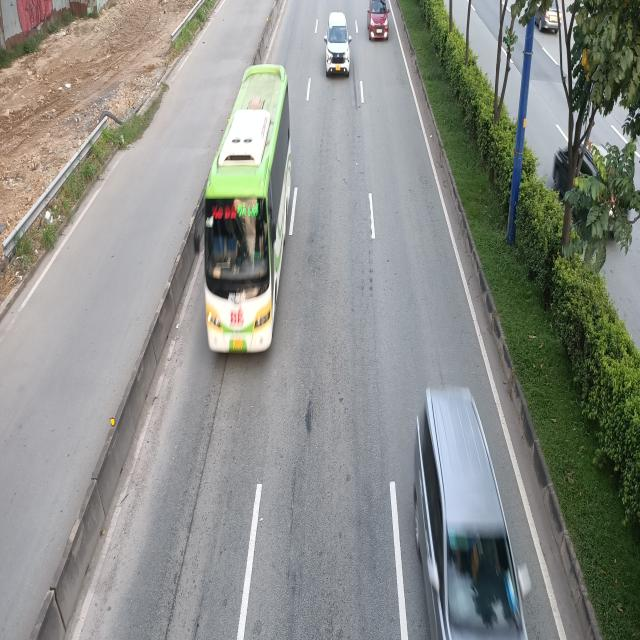car: (326, 10, 353, 76), (366, 0, 389, 39)
coach: (198, 69, 302, 358)
